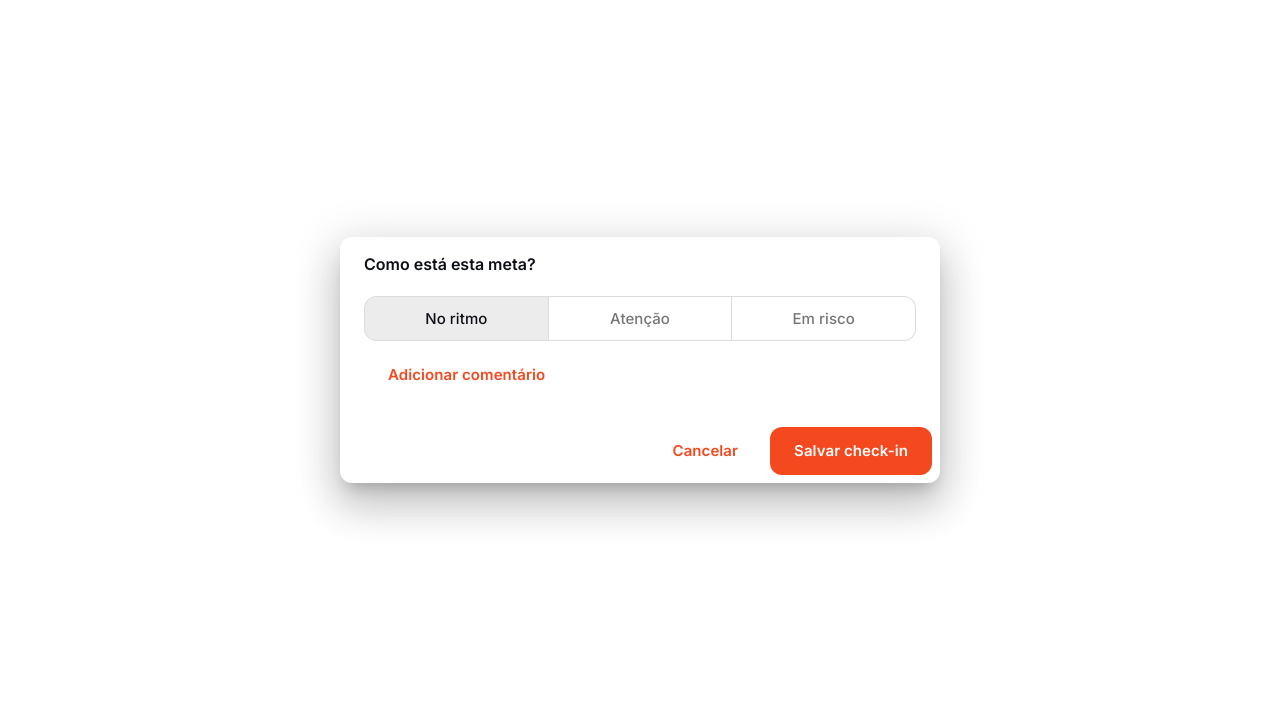
Test case: GoalCheckInDialog › reveals reflection fields only after "Adicionar comentário"
Expected: the field labelled "Existe algum bloqueio?" is not shown
Click the button "Adicionar comentário" at (467, 375), box [364,351,569,399]
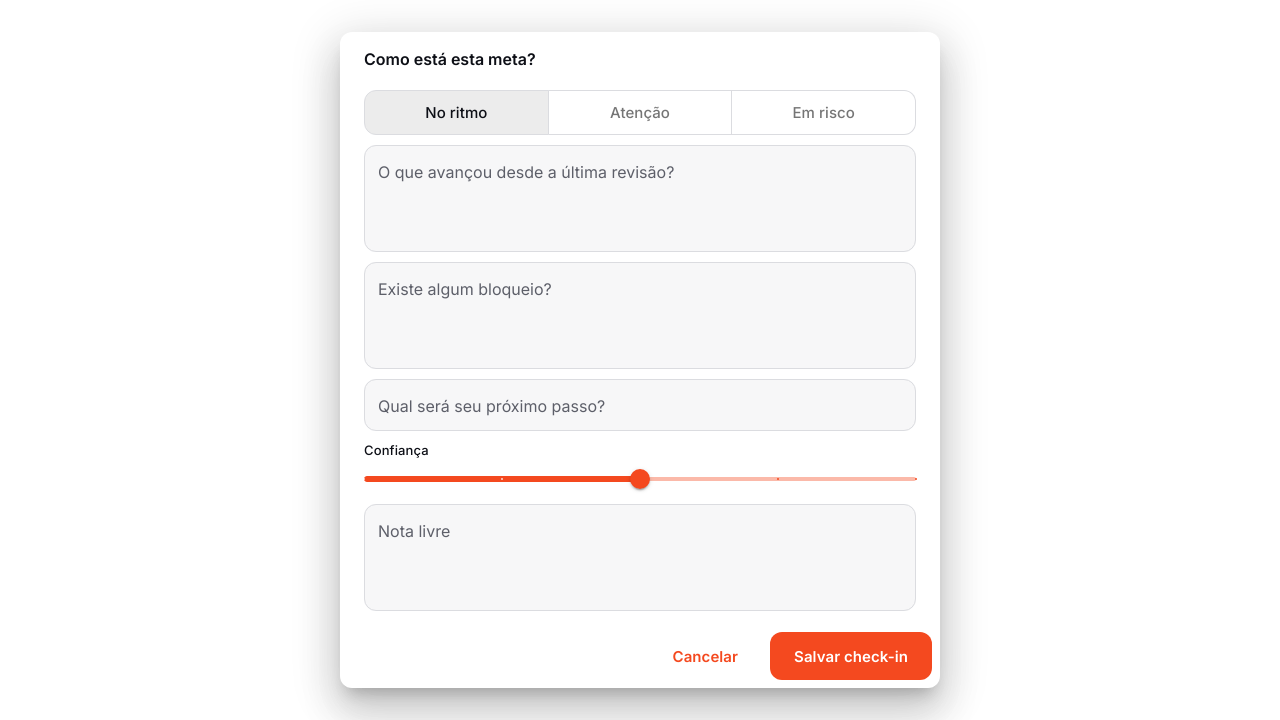
Result: the text box labelled "Existe algum bloqueio?" is shown at [378,279,902,353]
